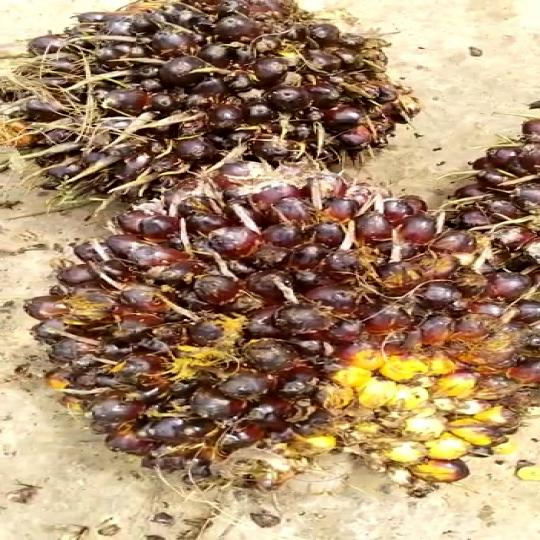kurang masak: (39, 172, 540, 512), (0, 0, 431, 202)
